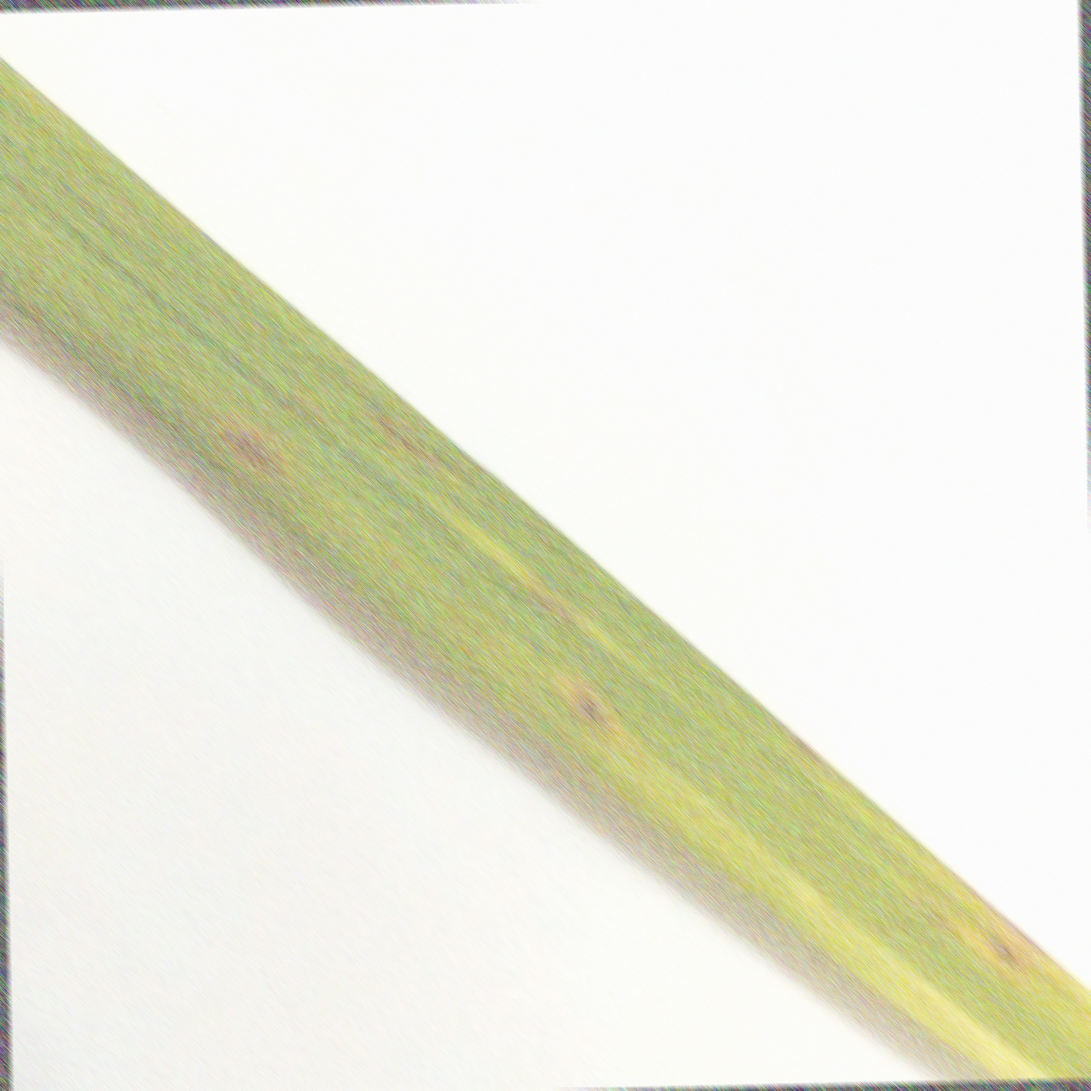Brown_Spot: (549, 650, 632, 753), (211, 402, 296, 495), (359, 389, 439, 473), (512, 564, 577, 630)
